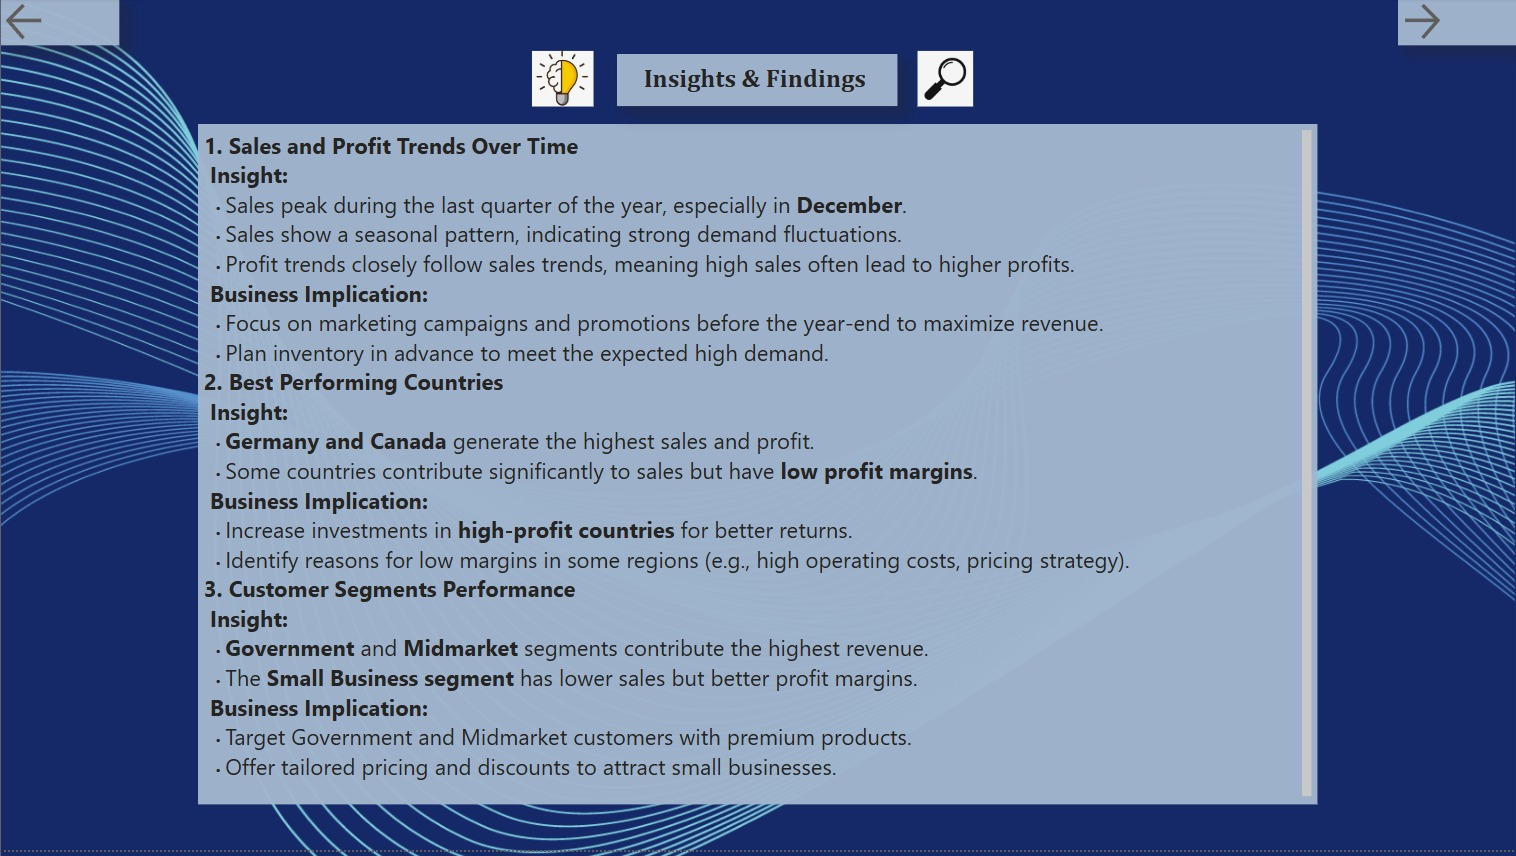

The dashboard page shown, as its layout file describes it:
{"tool":"powerbi","page":{"name":"INSIGHTS & FINDINGS","canvas":[1280,720],"ordinal":4},"visuals":[{"type":"actionButton","box":[0,0,100,40],"z":0},{"type":"actionButton","box":[1180.6,0,99.7,39.7],"z":1000},{"type":"textbox","box":[166.5,106.5,946.5,575.5],"z":2000},{"type":"textbox","box":[520.6,47.3,237.5,43.9],"z":3000}]}

Visuals, with their boxes in screenshot pixels (x1, y1, x2, y2), scaled from the page's 1280x720 canvas onto the 1516x856 screenshot:
actionButton: [left=0, top=0, right=118, bottom=48]
actionButton: [left=1398, top=0, right=1515, bottom=47]
textbox: [left=197, top=127, right=1318, bottom=811]
textbox: [left=617, top=56, right=898, bottom=108]
